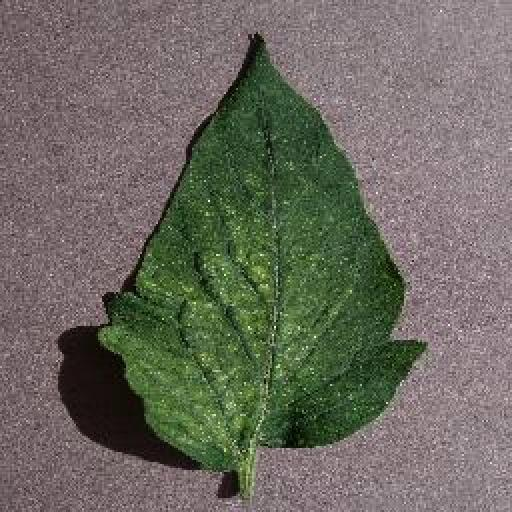disease_tomato: (98, 30, 428, 468)
